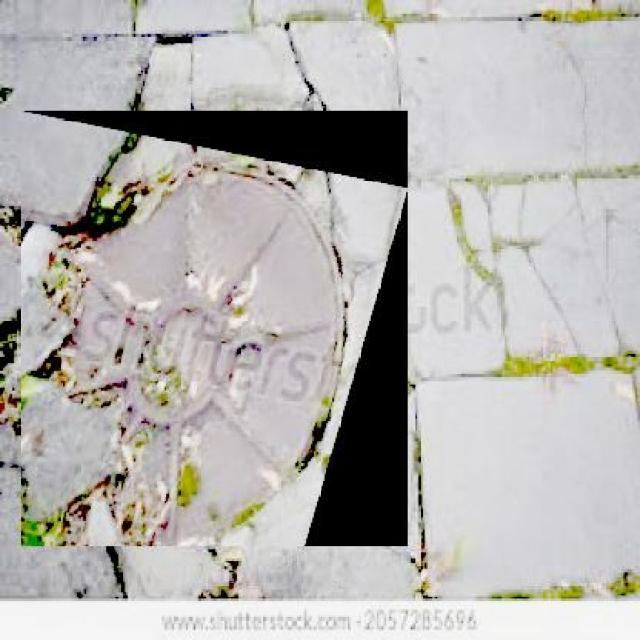Manhole: (20, 110, 408, 546)
Pothole: (153, 27, 195, 51)
